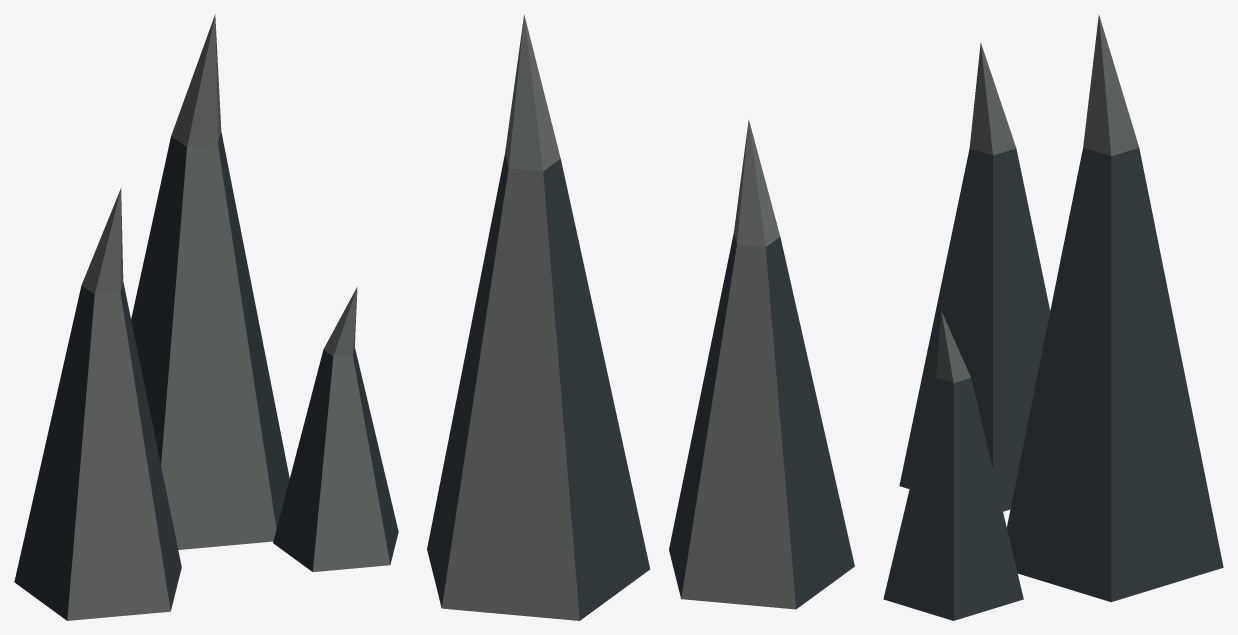
Rendered from MountainSpires.fbx.
3 views of the same model, side by side, from view 1: azimuth 30°, elevation 25°; view 2: azimuth 150°, elevation 25°; view 3: azimuth 270°, elevation 25° (orthographic). The views are drawn at different scales.
Parts seen in each view (by area): view 1: MountainSpires; view 2: MountainSpires; view 3: MountainSpires.
Boxes of the visible parts, x1,y1,x2,y2 form: MountainSpires: (14,14,398,620); MountainSpires: (427,14,854,620); MountainSpires: (883,15,1223,620).
Bounding box in the file's own units: 87.18 × 122 × 69.09.
